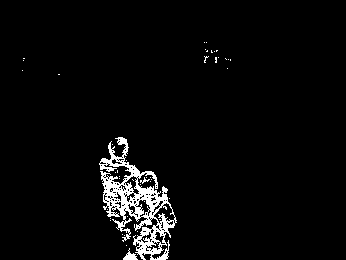person: (129, 171, 177, 260), (98, 136, 137, 244)
